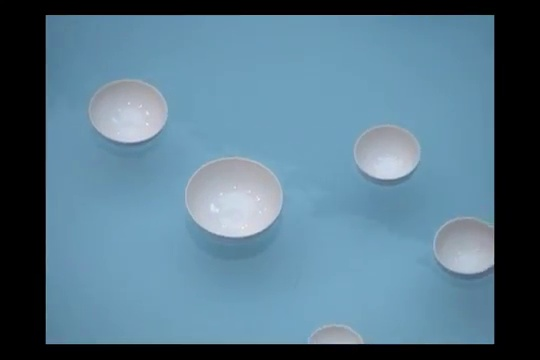bowl: (184, 157, 282, 244), (87, 78, 169, 148), (353, 124, 421, 187), (433, 216, 493, 279), (307, 323, 364, 343)
